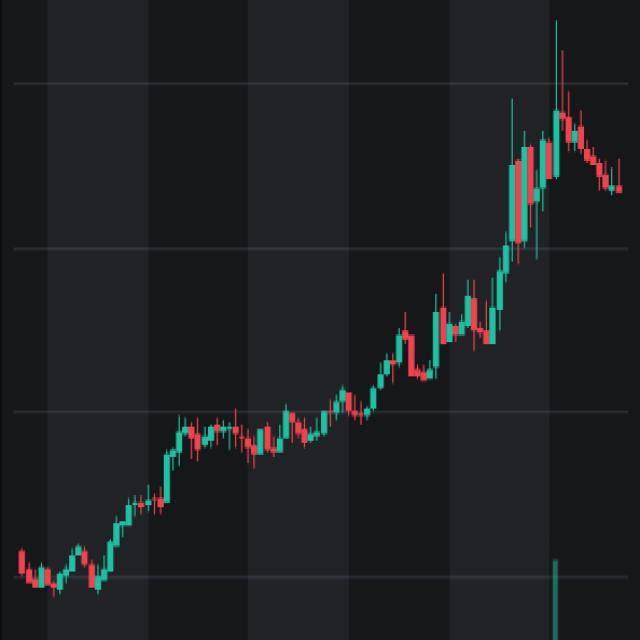Resistance-breakout: (89, 91, 561, 591)
